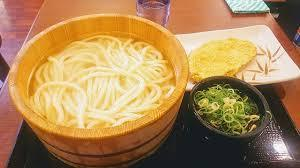kamaage: (10, 15, 190, 133)
satumaimo: (187, 38, 258, 80)
